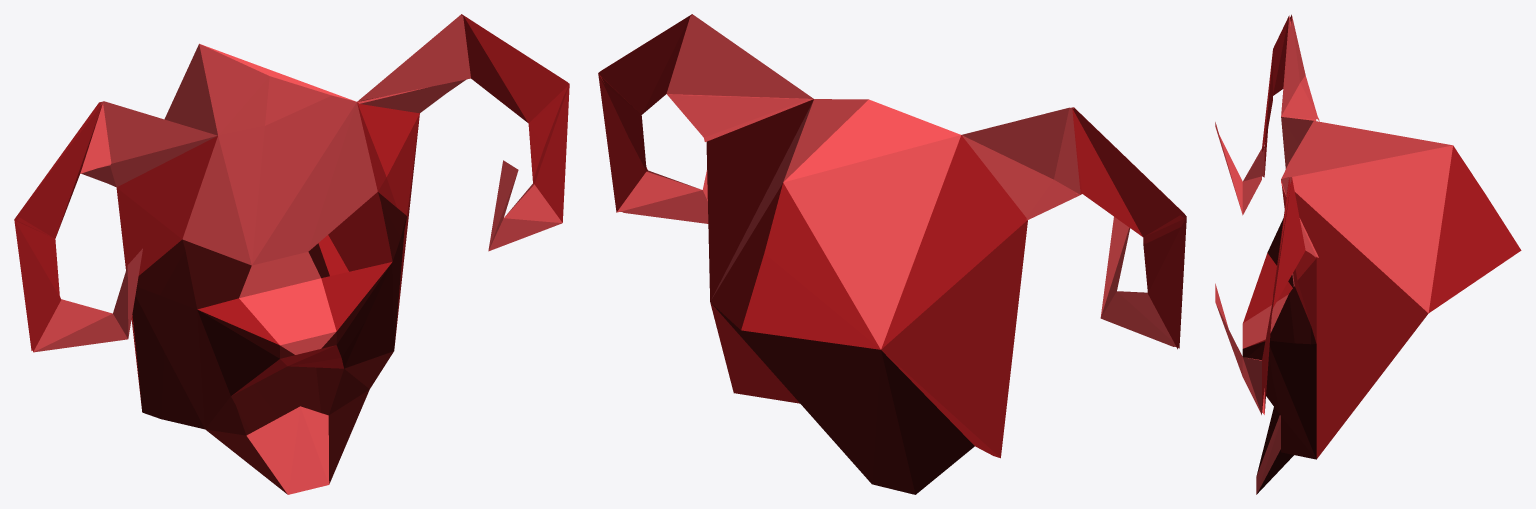
3 views of the same model, side by side, from view 1: azimuth 30°, elevation 25°; view 2: azimuth 150°, elevation 25°; view 3: azimuth 270°, elevation 25° (orthographic). The views are drawn at different scales.
Parts seen in each view (by area): view 1: ss3d_69_cyberguard; view 2: ss3d_69_cyberguard; view 3: ss3d_69_cyberguard.
Part boxes in pixels (x1,y1,x2,y2): ss3d_69_cyberguard: (14,14,569,494); ss3d_69_cyberguard: (598,14,1186,494); ss3d_69_cyberguard: (1215,14,1521,494).
Size of the model in its own units: 1.69 by 1.22 by 0.875.
Materials: 1 (1 with a texture image).
